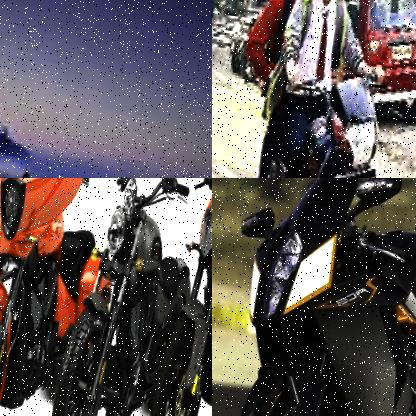bike: (212, 178, 416, 416), (43, 178, 194, 416), (0, 178, 98, 416), (248, 64, 416, 178), (141, 178, 212, 416)
car: (344, 0, 416, 118)
